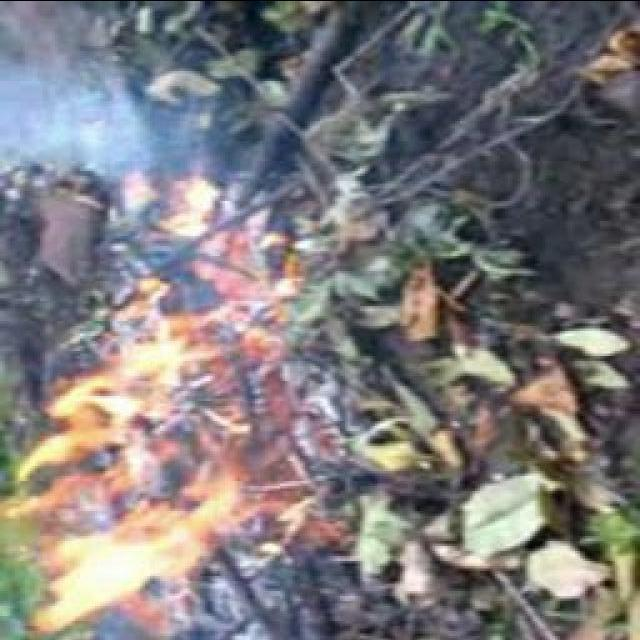Fire: (12, 282, 290, 634)
